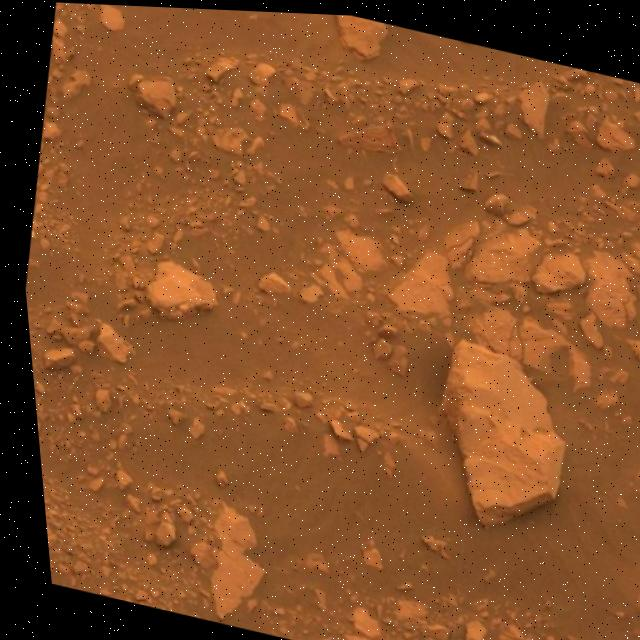mars-rocks: (434, 337, 559, 524), (200, 505, 255, 619), (141, 260, 212, 319), (338, 12, 387, 56)
